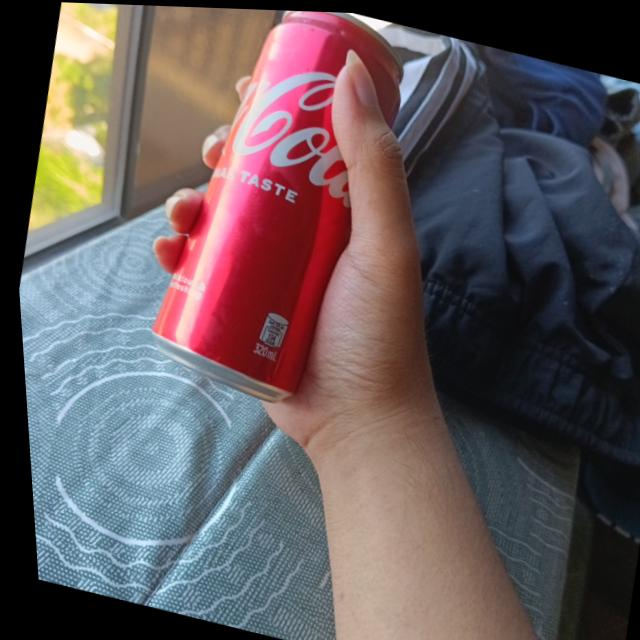coke: (119, 3, 431, 422)
